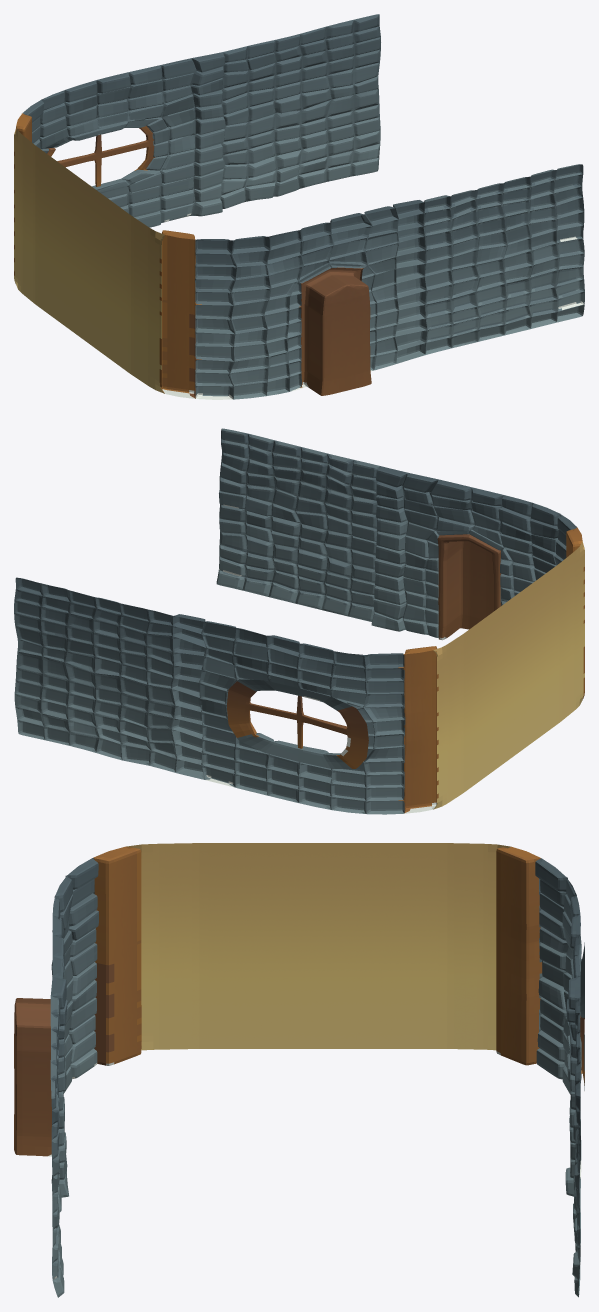
Rendered from walls.fbx.
3 views of the same model, one above another, from view 1: azimuth 30°, elevation 25°; view 2: azimuth 150°, elevation 25°; view 3: azimuth 270°, elevation 25° (orthographic). The views are drawn at different scales.
Parts seen in each view (by area): view 1: Walls; view 2: Walls; view 3: Walls.
Boxes of the visible parts, x1,y1,x2,y2 form: Walls: (14, 14, 584, 399); Walls: (14, 428, 584, 814); Walls: (14, 843, 584, 1297).
Size of the model in its own units: 769 by 297 by 739.
